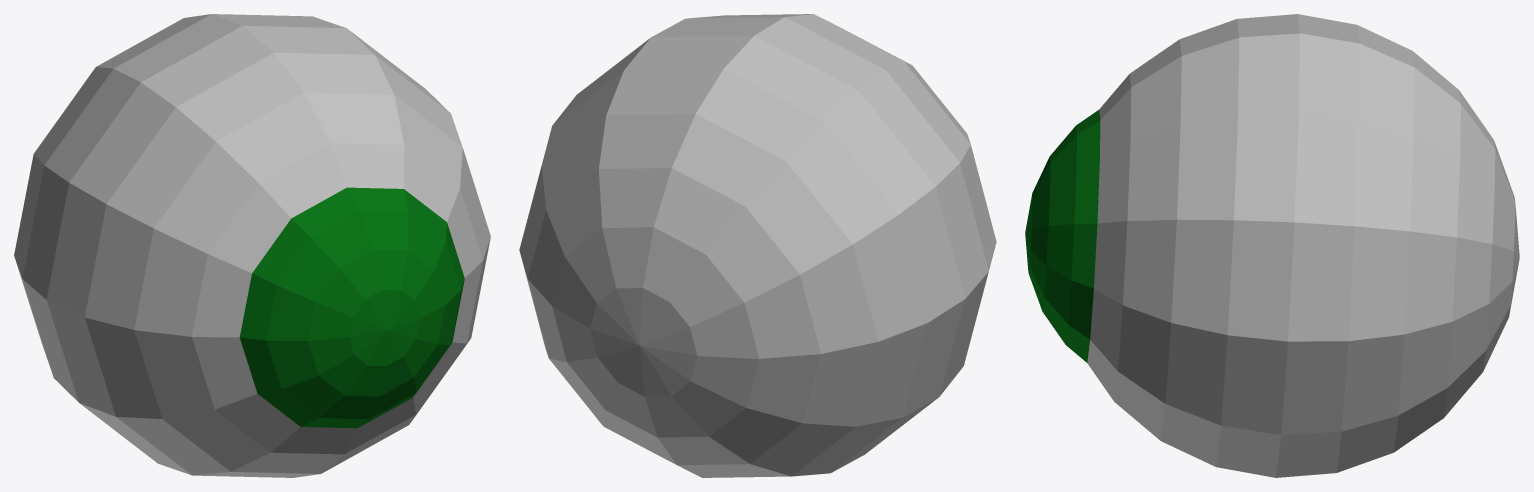
The model's file is righteye.dae.
3 renders of one model, left to right at view 1: azimuth 30°, elevation 25°; view 2: azimuth 150°, elevation 25°; view 3: azimuth 270°, elevation 25°, orthographic. The views are drawn at different scales.
Visible parts, largest first — view 1: Sphere_004, Sphere_003; view 2: Sphere_004; view 3: Sphere_004, Sphere_003.
Boxes of the visible parts, x1,y1,x2,y2 form: Sphere_004: [14, 14, 490, 477]; Sphere_003: [239, 187, 464, 428]; Sphere_004: [519, 14, 996, 477]; Sphere_004: [1087, 14, 1519, 477]; Sphere_003: [1025, 110, 1100, 362].
Size of the model in its own units: 0.4962 by 0.5258 by 0.4955.
